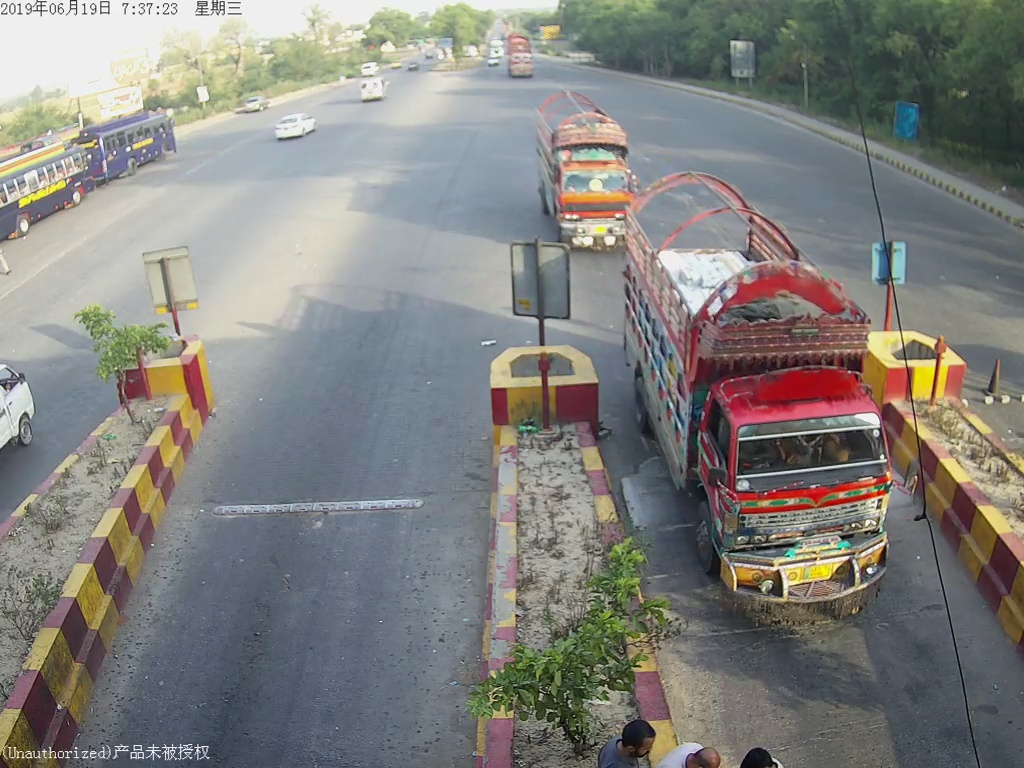Cat-4: (629, 181, 895, 593), (537, 87, 639, 256)
